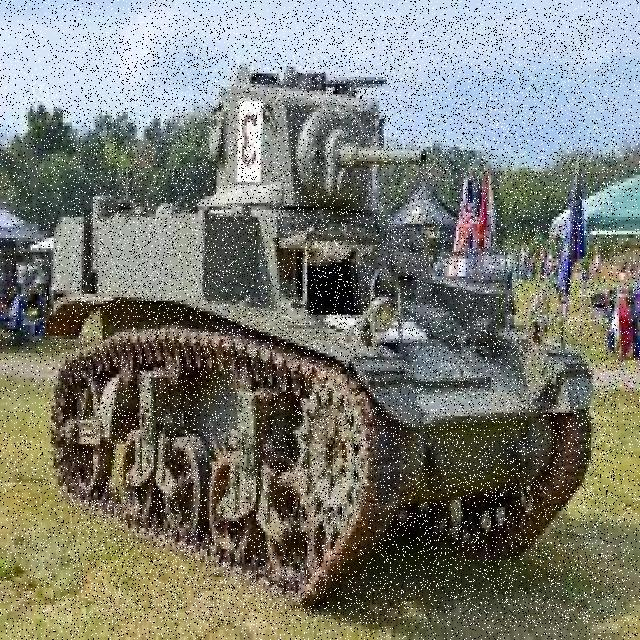MIL_MBT: (72, 16, 617, 624)
